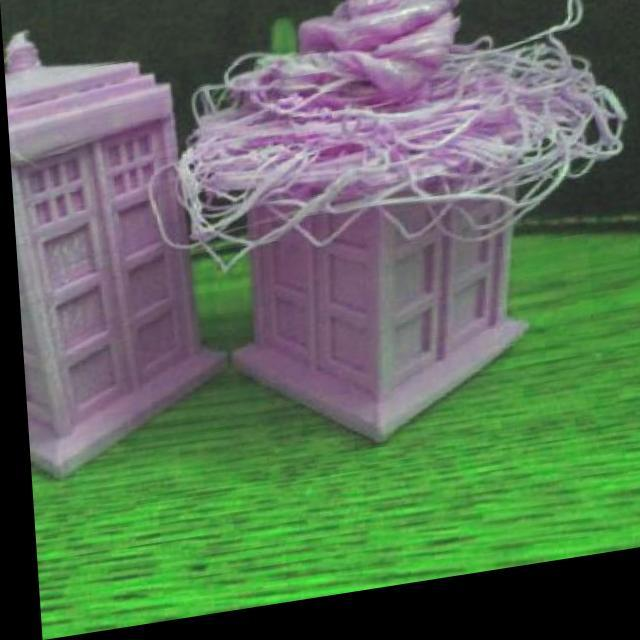spaghetti: (129, 0, 634, 305)
